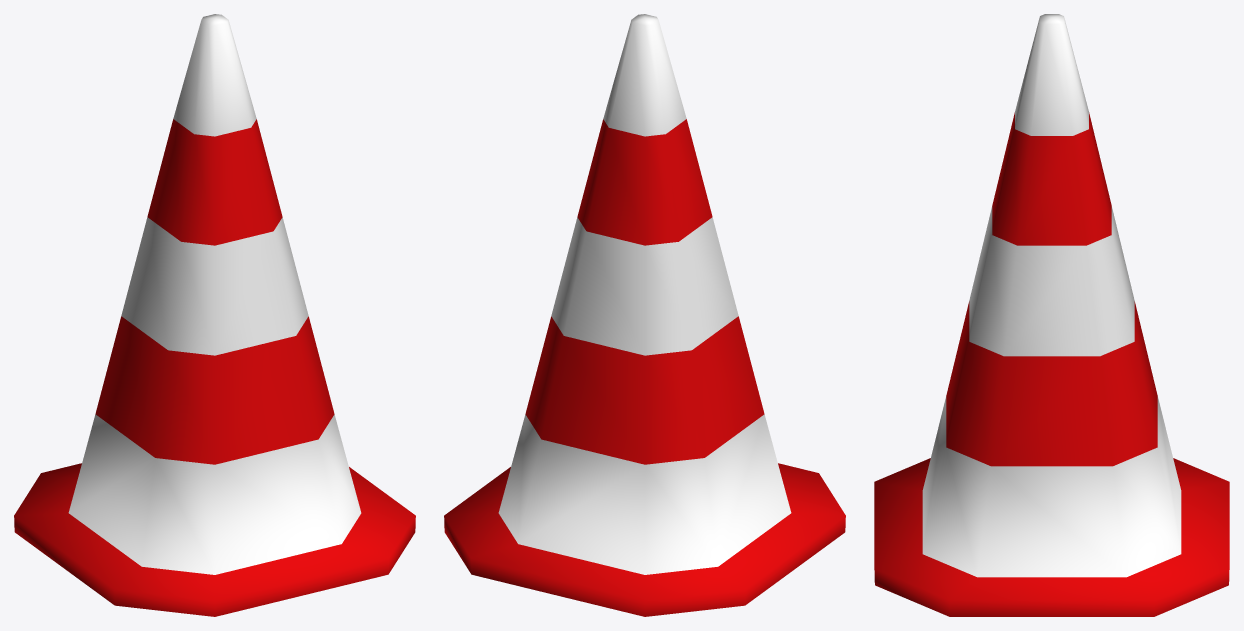
The model's file is Traffic Cone-transformed.glb.
The picture shows the model from 3 angles, left to right: view 1: azimuth 30°, elevation 25°; view 2: azimuth 150°, elevation 25°; view 3: azimuth 270°, elevation 25°; orthographic projection. The views are drawn at different scales.
Parts seen in each view (by area): view 1: traffic Cone; view 2: traffic Cone; view 3: traffic Cone.
Boxes of the visible parts, x1=… form: traffic Cone: x1=14, y1=14, x2=415, y2=616; traffic Cone: x1=444, y1=14, x2=845, y2=616; traffic Cone: x1=874, y1=14, x2=1229, y2=616.
Bounding box in the file's own units: 0.0245 × 0.0399 × 0.0245.
